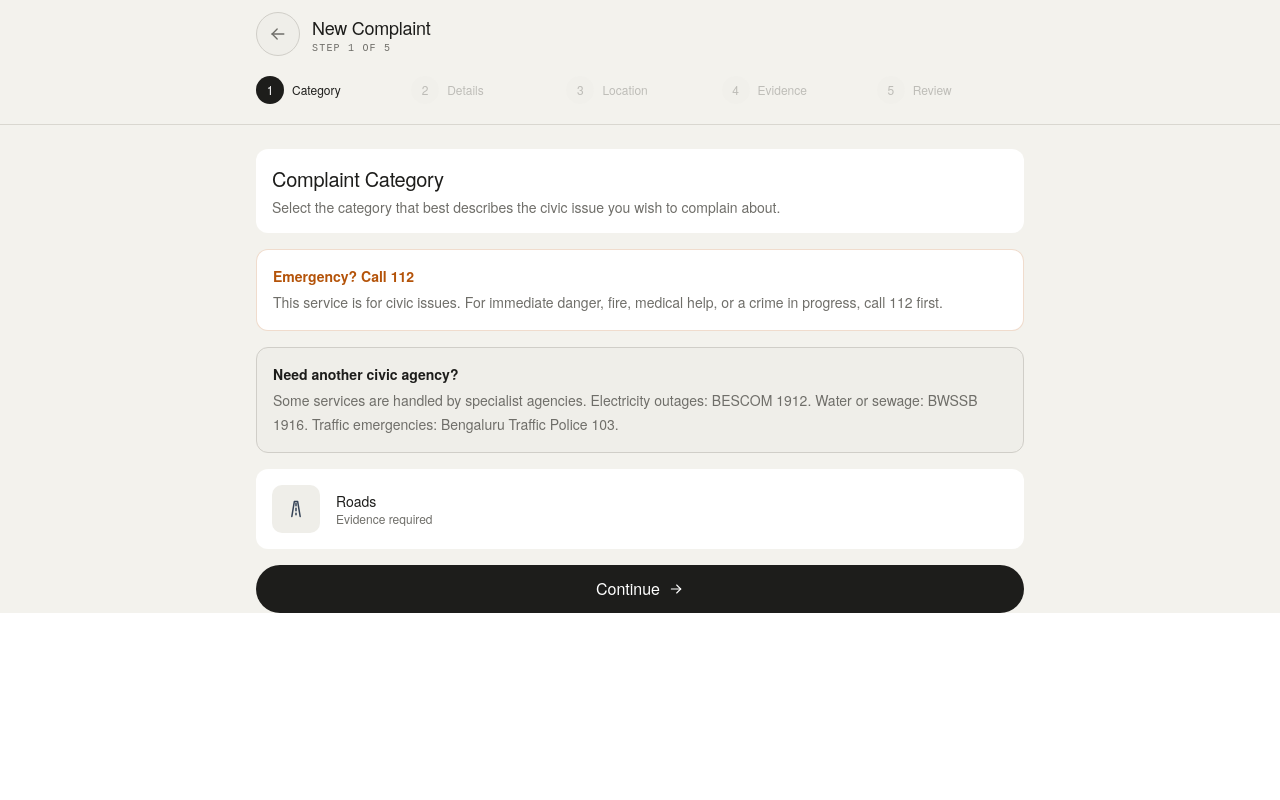
SubmitPage › validates category selection
This screenshot has width=1280, height=800.
Click the button "Continue". click: (640, 589)
box: [256,565,1024,613]
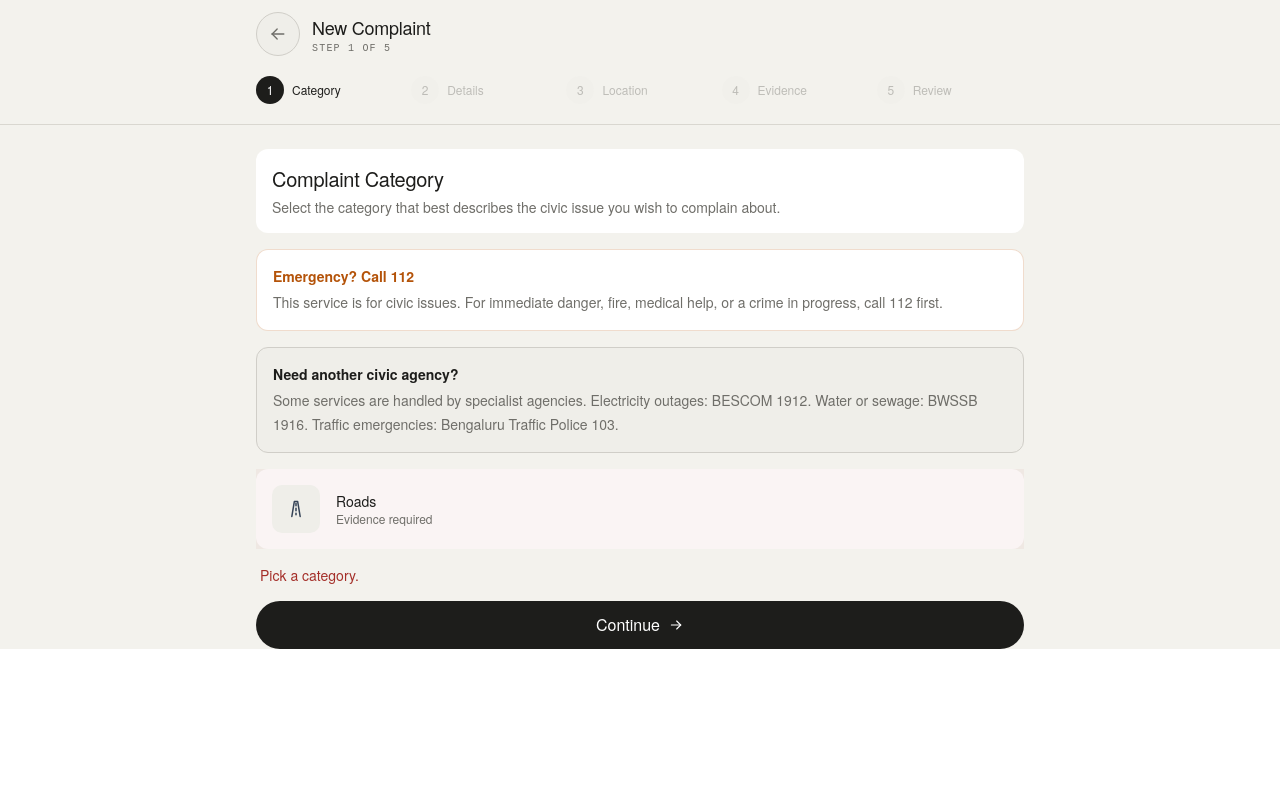
expect the text "Pick a category." is shown: met, box [260,565,359,585]
